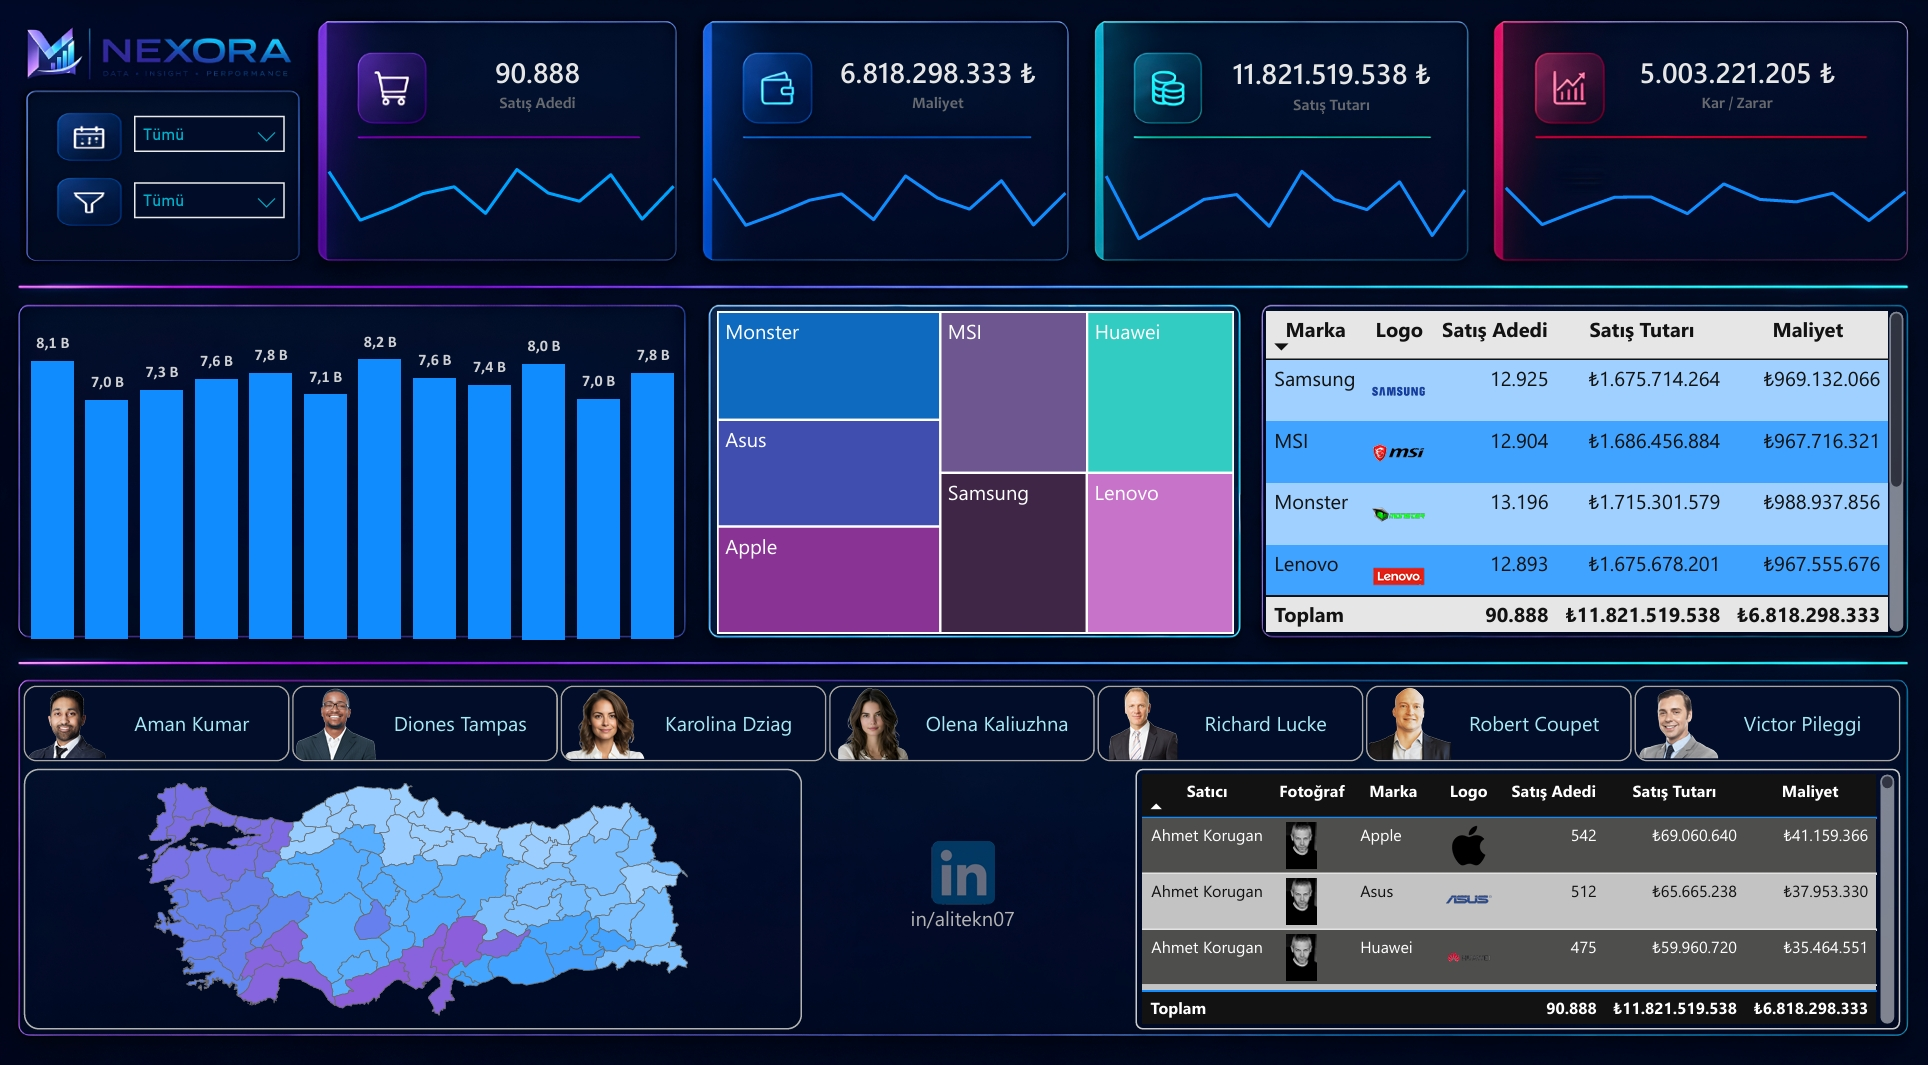

What the dashboard file says about the page in this screenshot:
{"tool":"powerbi","page":{"name":"1. sayfa","canvas":[1280,720],"ordinal":0},"visuals":[{"type":"slicer","fields":{"Values":["tarih_tablosu.Date.Varyasyon.Tarih Hiyerarşisi.Yıl"]},"box":[84.4,76.6,111.2,34.7],"z":0},{"type":"slicer","fields":{"Values":["urunler.marka"]},"box":[84.4,121.1,111.2,34.7],"z":1000},{"type":"cardVisual","fields":{"Data":["olculer.toplam_satis_adedi"]},"box":[306.5,20.5,103.7,80.6],"z":2000},{"type":"cardVisual","fields":{"Data":["olculer.toplam_satis_tutar"]},"box":[794.6,27.7,178.3,66],"z":3000},{"type":"cardVisual","fields":{"Data":["olculer.toplam_maliyet"]},"box":[533.7,20.5,178.3,80.6],"z":4000},{"type":"cardVisual","fields":{"Data":["olculer.kar/zarar"]},"box":[1064,20.5,179,80.6],"z":5000},{"type":"lineChart","fields":{"Category":["tarih_tablosu.Date.Varyasyon.Tarih Hiyerarşisi.Ay"],"Y":["olculer.veri_toplam_satis_adedi"]},"box":[205.8,93.8,255.5,77],"z":6000},{"type":"lineChart","fields":{"Category":["tarih_tablosu.Date.Varyasyon.Tarih Hiyerarşisi.Ay"],"Y":["olculer.veri_toplam_maliyet"]},"box":[461.4,93.6,259.3,76.8],"z":7000},{"type":"lineChart","fields":{"Category":["tarih_tablosu.Date.Varyasyon.Tarih Hiyerarşisi.Ay"],"Y":["olculer.veri_toplam_satis_tutar"]},"box":[720.7,93.6,265.7,76.8],"z":8000},{"type":"lineChart","fields":{"Category":["tarih_tablosu.Date.Varyasyon.Tarih Hiyerarşisi.Ay"],"Y":["olculer.veri_kar_zarar"]},"box":[985,93.6,293.6,76.8],"z":9000},{"type":"columnChart","fields":{"Category":["tarih_tablosu.Date.Varyasyon.Tarih Hiyerarşisi.Ay"],"Y":["olculer.veri_toplam_satis_adedi"]},"box":[17.3,207.3,436.7,228],"z":10000},{"type":"treemap","fields":{"Group":["urunler.marka"],"Values":["olculer.veri_toplam_satis_tutar"]},"box":[472,207.2,352.4,222.4],"z":11000},{"type":"tableEx","fields":{"Values":["urunler.marka","urunler.logo","olculer.veri_toplam_satis_adedi","olculer.veri_toplam_satis_tutar","olculer.veri_toplam_maliyet"]},"box":[835,206.9,432.5,222.5],"z":12000},{"type":"advancedSlicerVisual","fields":{"Values":["yoneticiler.yonetici"]},"box":[17.3,460,1250.7,50],"z":13000},{"type":"shapeMap","fields":{"Category":["bolgeler.Merkez"],"Value":["olculer.veri_toplam_satis_adedi"]},"box":[17.3,514.9,516.1,172.9],"z":14000},{"type":"tableEx","fields":{"Values":["saticilar.satici","saticilar.foto","urunler.marka","urunler.logo","olculer.veri_toplam_satis_adedi","olculer.veri_toplam_satis_tutar","olculer.veri_toplam_maliyet"]},"box":[754.4,515,506.2,172.5],"z":15000}]}

Visuals, with their boxes in screenshot pixels (x1, y1, x2, y2), scaled from the page's 1280x720 canvas onto the 1928x1065 screenshot:
slicer - tarih_tablosu.Date.Varyasyon.Tarih Hiyerarşisi.Yıl: 127:113:295:165
slicer - urunler.marka: 127:179:295:230
cardVisual - olculer.toplam_satis_adedi: 462:30:618:150
cardVisual - olculer.toplam_satis_tutar: 1197:41:1465:139
cardVisual - olculer.toplam_maliyet: 804:30:1072:150
cardVisual - olculer.kar/zarar: 1603:30:1872:150
lineChart - tarih_tablosu.Date.Varyasyon.Tarih Hiyerarşisi.Ay x olculer.veri_toplam_satis_adedi: 310:139:695:253
lineChart - tarih_tablosu.Date.Varyasyon.Tarih Hiyerarşisi.Ay x olculer.veri_toplam_maliyet: 695:138:1086:252
lineChart - tarih_tablosu.Date.Varyasyon.Tarih Hiyerarşisi.Ay x olculer.veri_toplam_satis_tutar: 1086:138:1486:252
lineChart - tarih_tablosu.Date.Varyasyon.Tarih Hiyerarşisi.Ay x olculer.veri_kar_zarar: 1484:138:1926:252
columnChart - tarih_tablosu.Date.Varyasyon.Tarih Hiyerarşisi.Ay x olculer.veri_toplam_satis_adedi: 26:307:684:644
treemap - urunler.marka x olculer.veri_toplam_satis_tutar: 711:306:1242:635
tableEx - urunler.marka x urunler.logo: 1258:306:1909:635
advancedSlicerVisual - yoneticiler.yonetici: 26:680:1910:754
shapeMap - bolgeler.Merkez x olculer.veri_toplam_satis_adedi: 26:762:803:1017
tableEx - saticilar.satici x saticilar.foto: 1136:762:1899:1017
